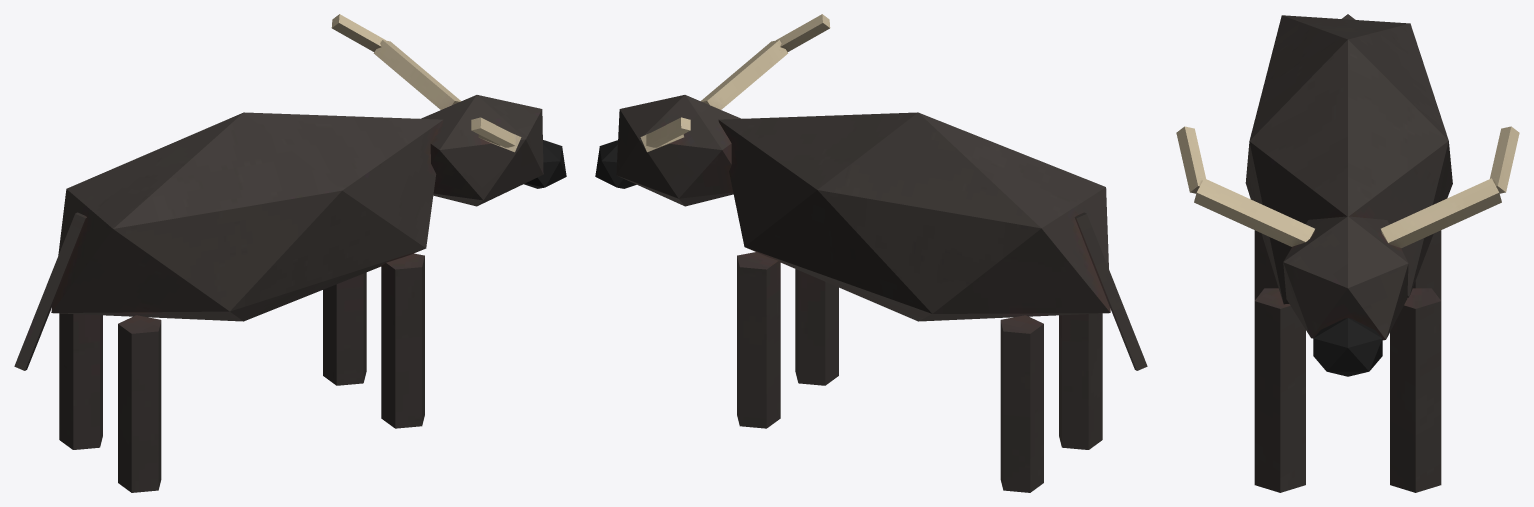
The model's file is vattenbuffel_tex.glb.
3 renders of one model, left to right at view 1: azimuth 30°, elevation 25°; view 2: azimuth 150°, elevation 25°; view 3: azimuth 270°, elevation 25°, orthographic. The views are drawn at different scales.
Parts seen in each view (by area): view 1: vattenbuffel; view 2: vattenbuffel; view 3: vattenbuffel.
Boxes of the visible parts, x1=… form: vattenbuffel: x1=14, y1=14, x2=566, y2=492; vattenbuffel: x1=595, y1=14, x2=1147, y2=492; vattenbuffel: x1=1176, y1=14, x2=1519, y2=492.
Bounding box in the file's own units: 2.7 × 1.53 × 1.27.
3 materials, 2 textured.
